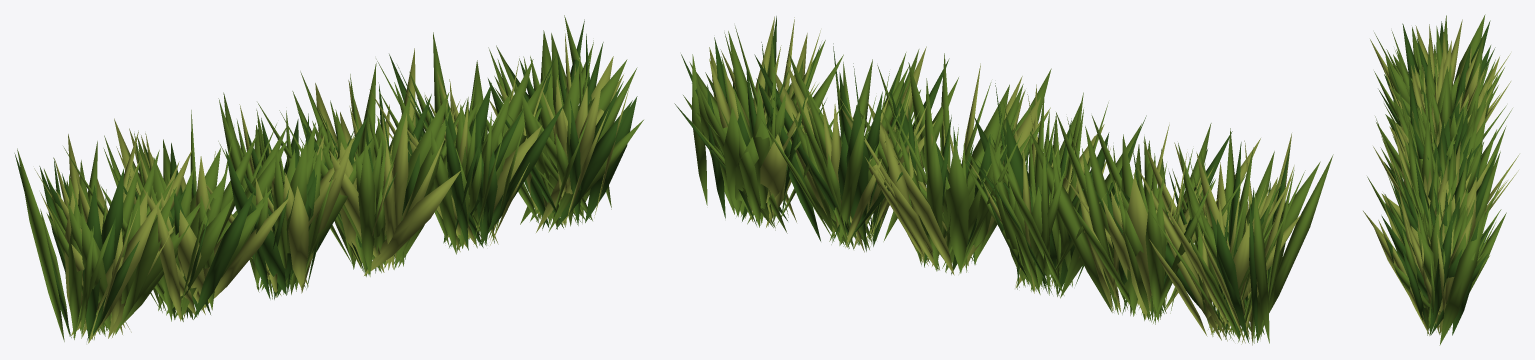
File: MV_Grass_Border_Straight_1m.fbx
3 views of the same model, side by side, from view 1: azimuth 30°, elevation 25°; view 2: azimuth 150°, elevation 25°; view 3: azimuth 270°, elevation 25° (orthographic). The views are drawn at different scales.
Visible parts, largest first — view 1: LOD0_Mesh, LOD2_Mesh, LOD1_Mesh; view 2: LOD0_Mesh, LOD1_Mesh, LOD2_Mesh; view 3: LOD0_Mesh, LOD2_Mesh, LOD1_Mesh.
Boxes of the visible parts, x1,y1,x2,y2 form: LOD0_Mesh: (14,19,643,340); LOD2_Mesh: (17,15,627,343); LOD1_Mesh: (46,33,637,339); LOD0_Mesh: (674,16,1333,343); LOD1_Mesh: (689,16,1320,343); LOD2_Mesh: (692,32,1294,345); LOD0_Mesh: (1363,15,1518,335); LOD2_Mesh: (1370,14,1519,345); LOD1_Mesh: (1375,26,1507,335).
Size of the model in its own units: 1 by 0.3 by 0.3325.
